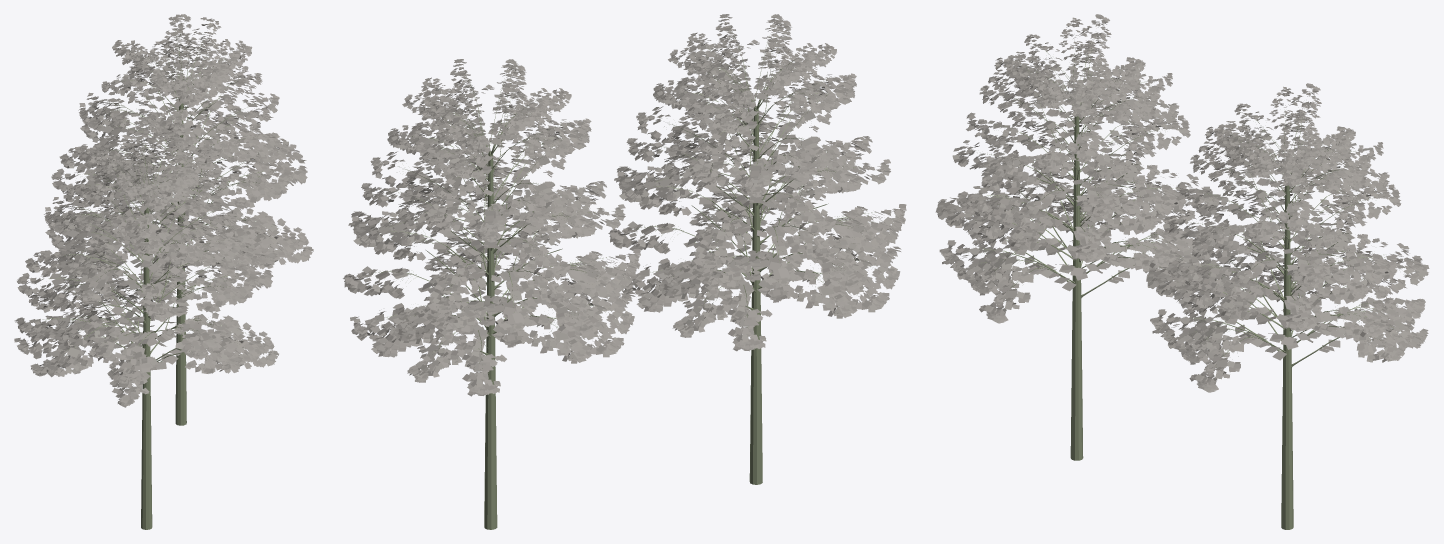
3 renders of one model, left to right at view 1: azimuth 30°, elevation 25°; view 2: azimuth 150°, elevation 25°; view 3: azimuth 270°, elevation 25°, orthographic. The views are drawn at different scales.
Parts seen in each view (by area): view 1: 0aOaINg9T00eS$KPN0_iPA, 0aOaINg9T00eS$KPN0_iPz; view 2: 0aOaINg9T00eS$KPN0_iPz, 0aOaINg9T00eS$KPN0_iPA; view 3: 0aOaINg9T00eS$KPN0_iPz, 0aOaINg9T00eS$KPN0_iPA.
Part boxes in pixels (x1,y1,x2,y2): 0aOaINg9T00eS$KPN0_iPA: (14, 118, 278, 529); 0aOaINg9T00eS$KPN0_iPz: (49, 14, 313, 425); 0aOaINg9T00eS$KPN0_iPz: (343, 59, 640, 529); 0aOaINg9T00eS$KPN0_iPA: (608, 14, 906, 484); 0aOaINg9T00eS$KPN0_iPz: (1146, 83, 1429, 529); 0aOaINg9T00eS$KPN0_iPA: (935, 14, 1217, 460).
Bounding box in the file's own units: 8.75 × 9.03 × 9.66.
